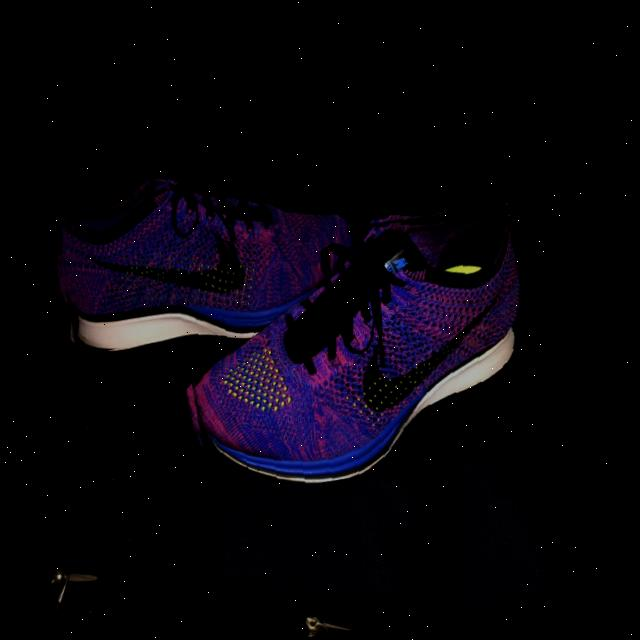shoe: (162, 194, 554, 504), (46, 151, 360, 357)
